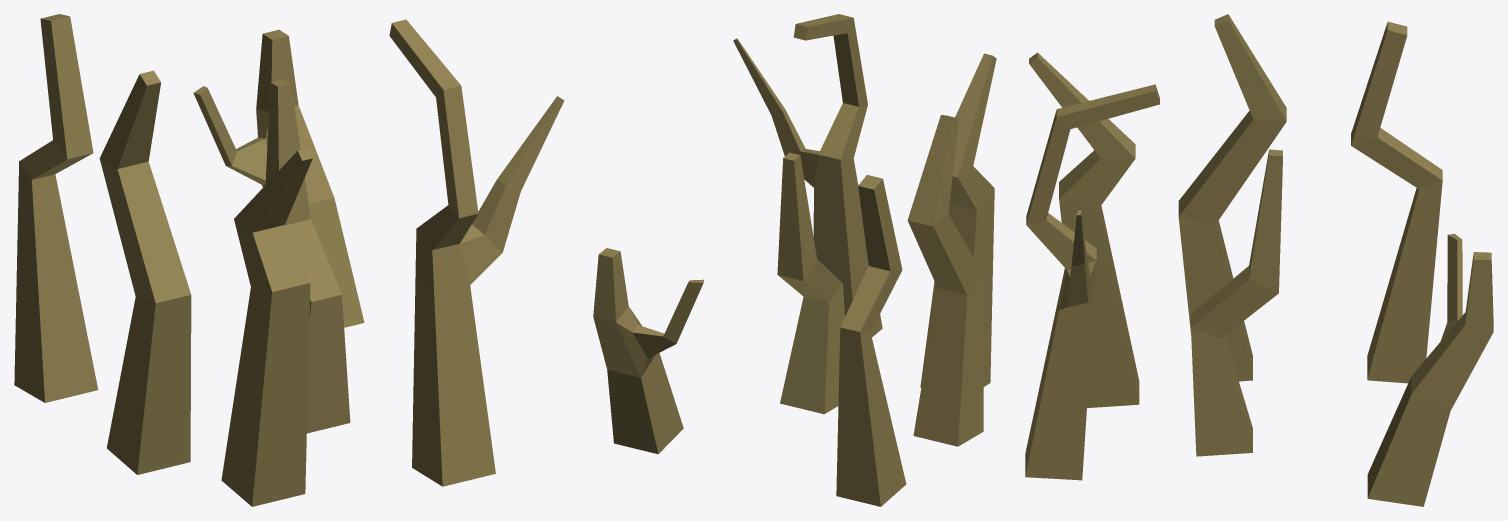
File: DryGrass.fbx
3 renders of one model, left to right at view 1: azimuth 30°, elevation 25°; view 2: azimuth 150°, elevation 25°; view 3: azimuth 270°, elevation 25°, orthographic. The views are drawn at different scales.
Visible parts, largest first — view 1: Plane; view 2: Plane; view 3: Plane.
Part boxes in pixels (<box>): Plane: <box>14,14,564,506</box>; Plane: <box>593,14,996,506</box>; Plane: <box>1025,14,1493,506</box>.
Bounding box in the file's own units: 195 × 212 × 235.
